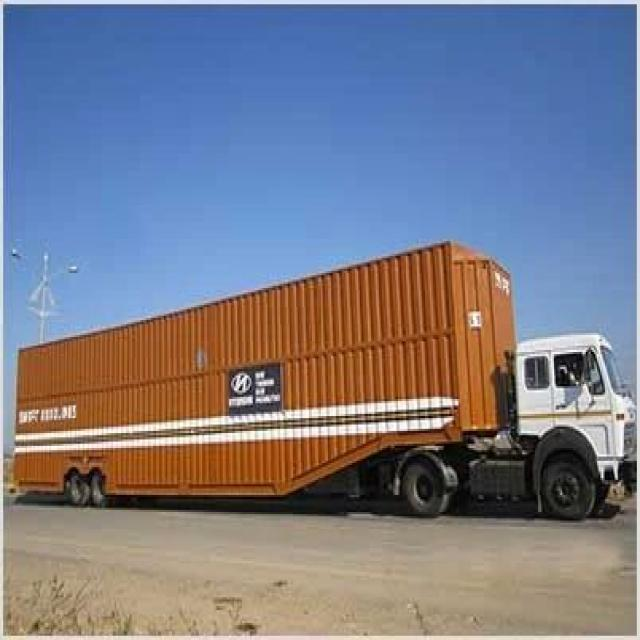truck: (12, 243, 634, 518)
